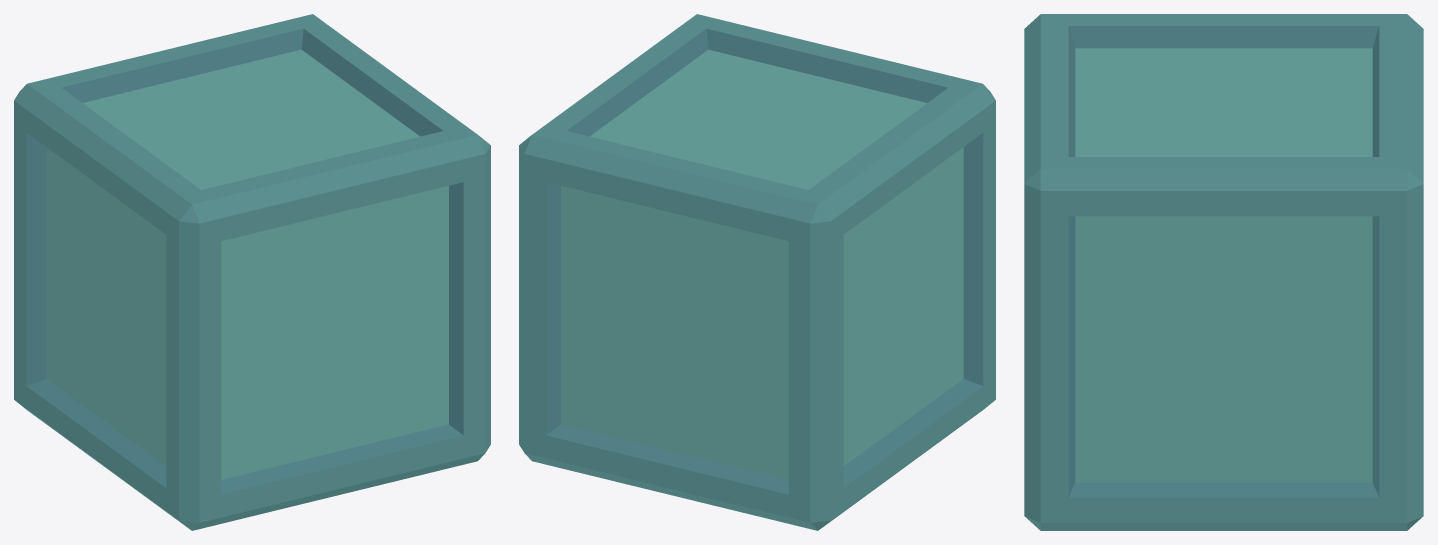
The picture shows the model from 3 angles, left to right: view 1: azimuth 30°, elevation 25°; view 2: azimuth 150°, elevation 25°; view 3: azimuth 270°, elevation 25°; orthographic projection. The views are drawn at different scales.
Visible parts, largest first — view 1: cube-a; view 2: cube-a; view 3: cube-a.
Part boxes in pixels (<box>): cube-a: <box>14,14,490,530</box>; cube-a: <box>519,14,995,530</box>; cube-a: <box>1024,14,1423,530</box>.
Size of the model in its own units: 1 by 1 by 1.
1 material, 1 textured.
